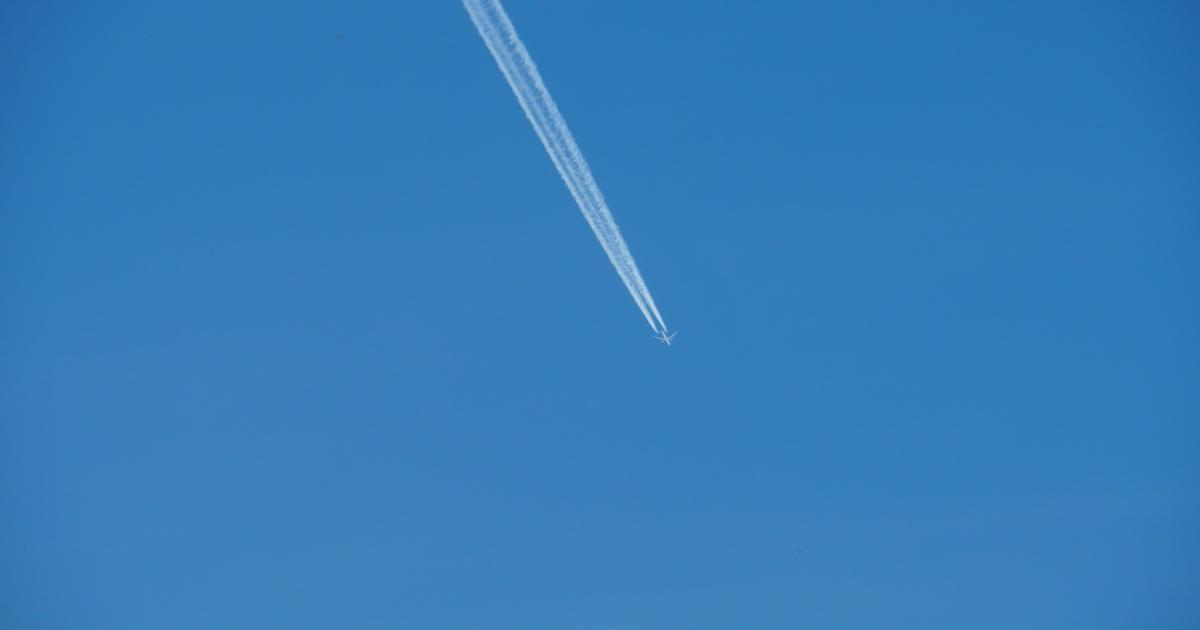Plane: (452, 20, 745, 354)
